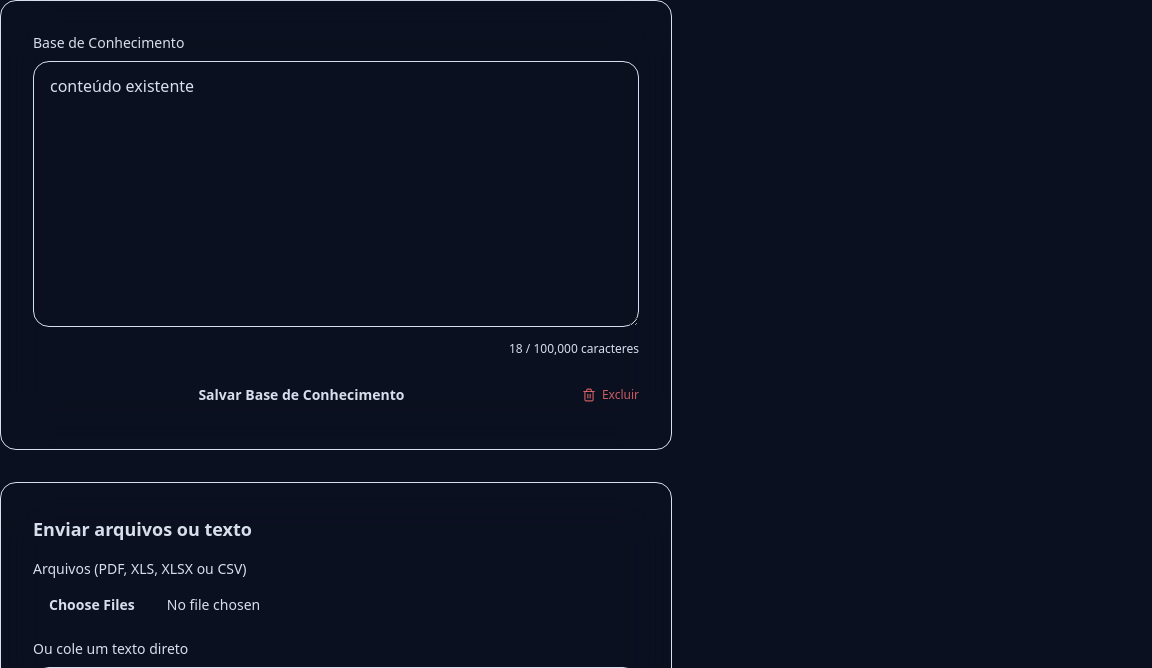
Test: KnowledgeBaseEditor › opens the delete dialog and deletes on confirmation
Step 1. Click the button "Excluir" → (610, 395), box [582,387,639,403]
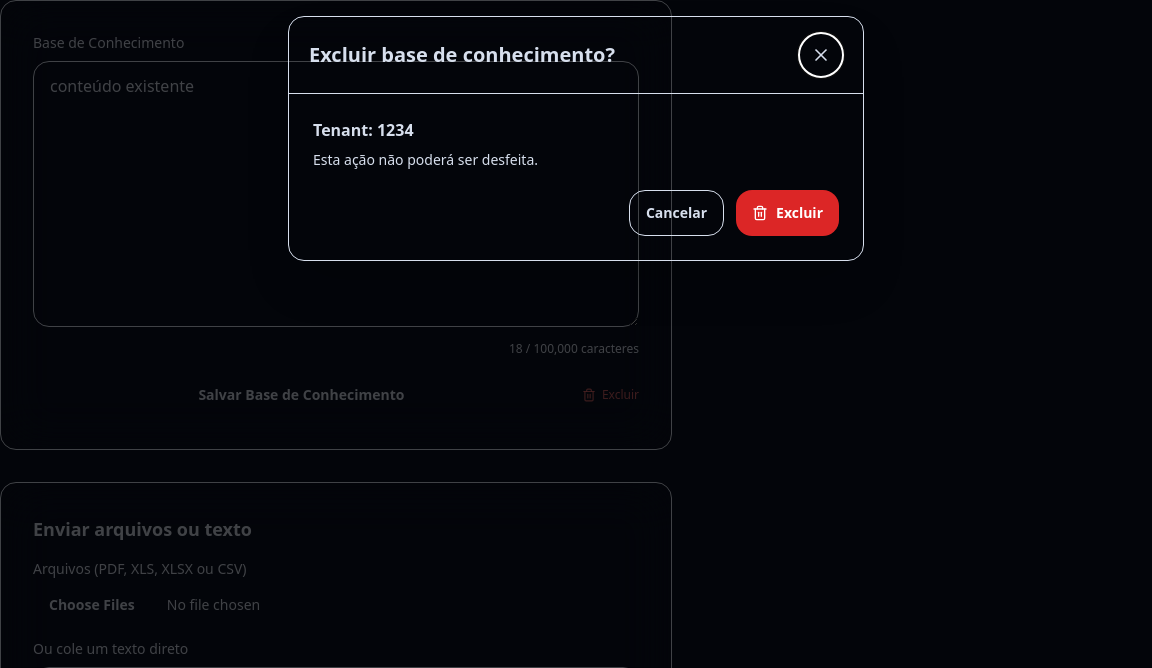
Expected: the dialog "Excluir base de conhecimento?" is shown, [288,16,864,261]
Step 2. Click the button "Excluir" → (788, 213), box [736,190,839,236]
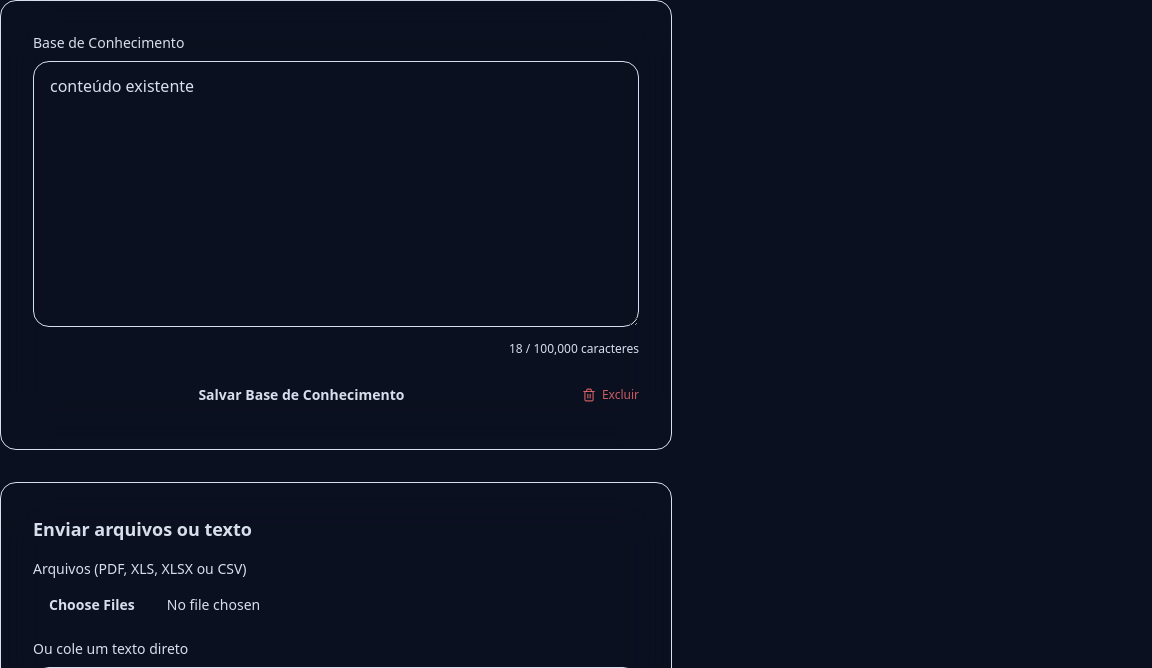
Expected: the heading "Excluir base de conhecimento?" is gone
